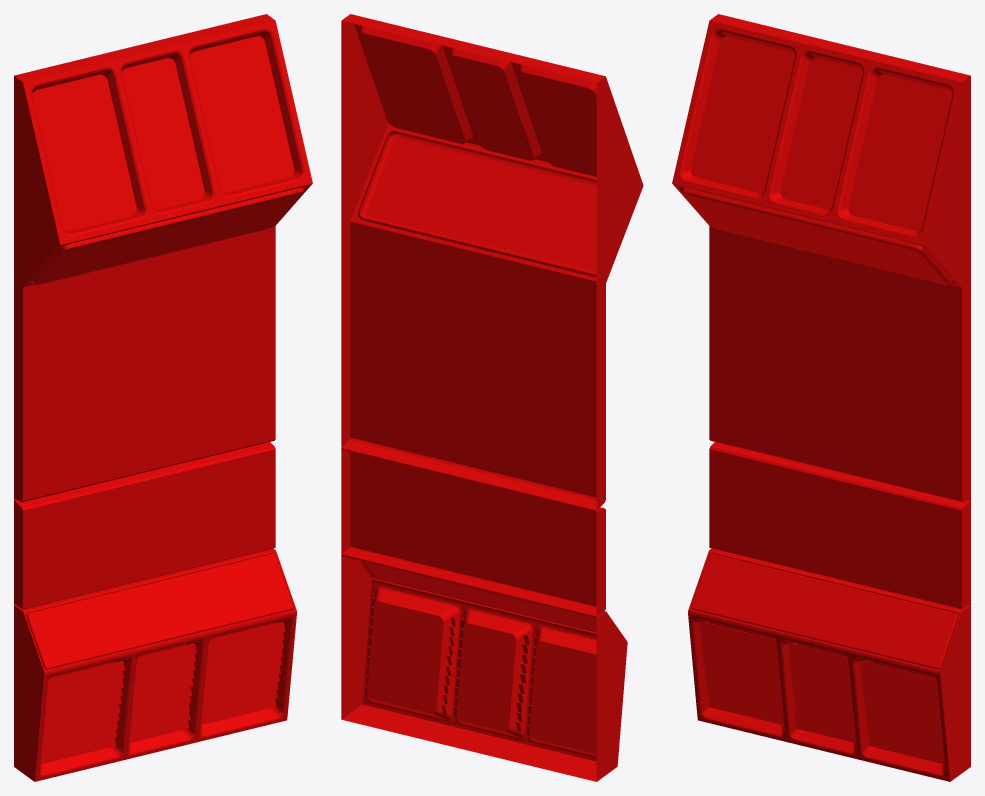
Rendered from Wall_1.fbx.
3 renders of one model, left to right at view 1: azimuth 30°, elevation 25°; view 2: azimuth 150°, elevation 25°; view 3: azimuth 330°, elevation 25°, orthographic.
Parts seen in each view (by area): view 1: L9:polySurface2582; view 2: L9:polySurface2582; view 3: L9:polySurface2582.
Part boxes in pixels (bbox=[...]): L9:polySurface2582: bbox=[14, 14, 312, 781]; L9:polySurface2582: bbox=[341, 14, 643, 781]; L9:polySurface2582: bbox=[672, 14, 970, 781].
Size of the model in its own units: 291 by 761 by 92.38.
